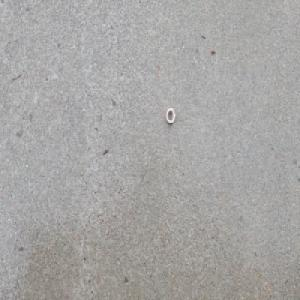Nut: (165, 107, 175, 124)
